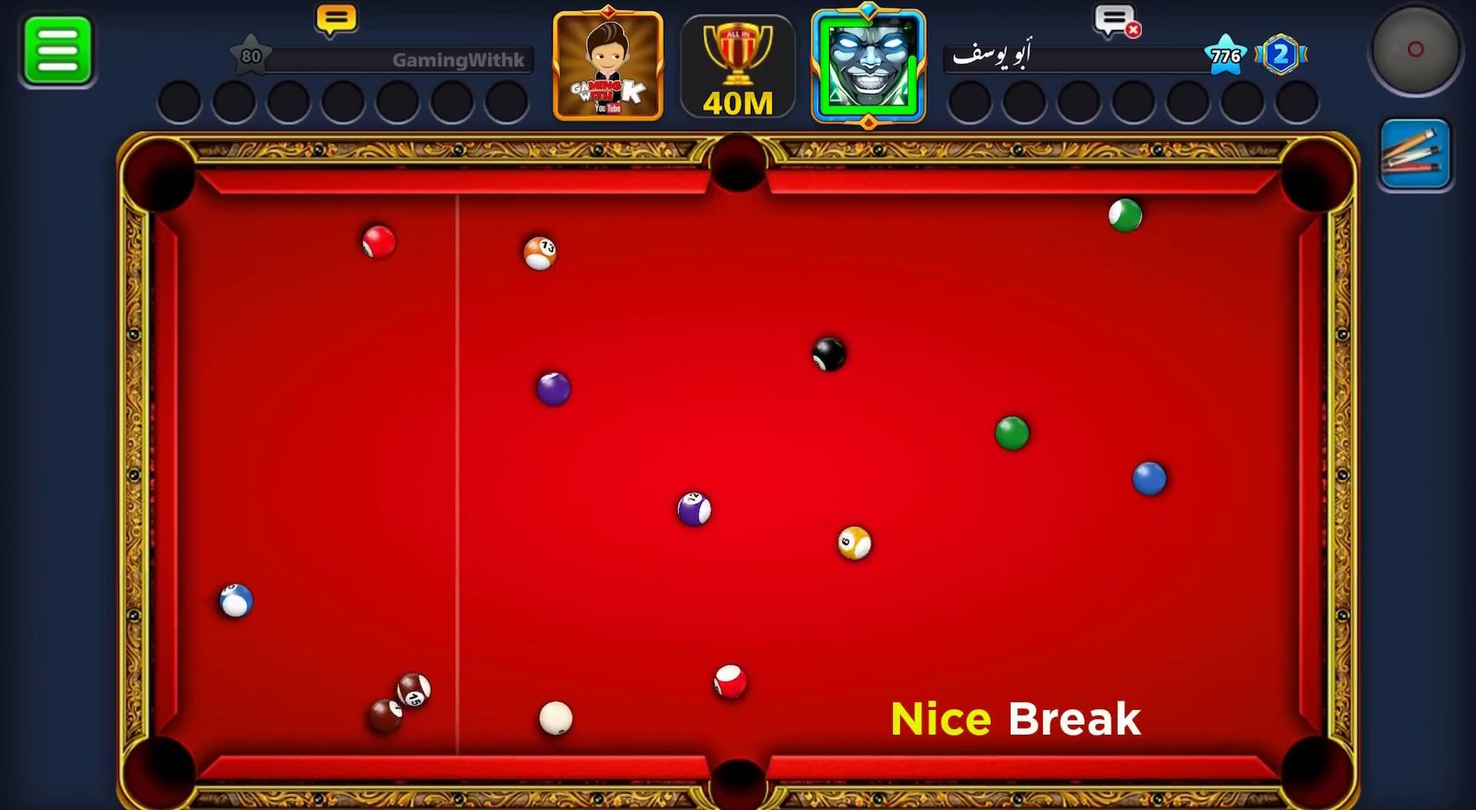Ball: (1131, 458, 1170, 498), (809, 335, 851, 372), (535, 370, 572, 409), (994, 414, 1031, 451), (520, 232, 554, 269), (369, 697, 403, 734), (397, 675, 431, 711), (838, 528, 874, 561), (219, 584, 252, 619), (1110, 199, 1143, 233), (362, 227, 394, 261), (676, 493, 708, 526), (713, 668, 745, 701)
Hole: (123, 137, 202, 220), (1283, 136, 1357, 221), (1280, 733, 1357, 810), (124, 734, 196, 810), (704, 136, 772, 197), (708, 757, 769, 810)
Play_Area: (180, 195, 1299, 758)
Spin: (1367, 5, 1467, 101)
White: (538, 701, 577, 735)
